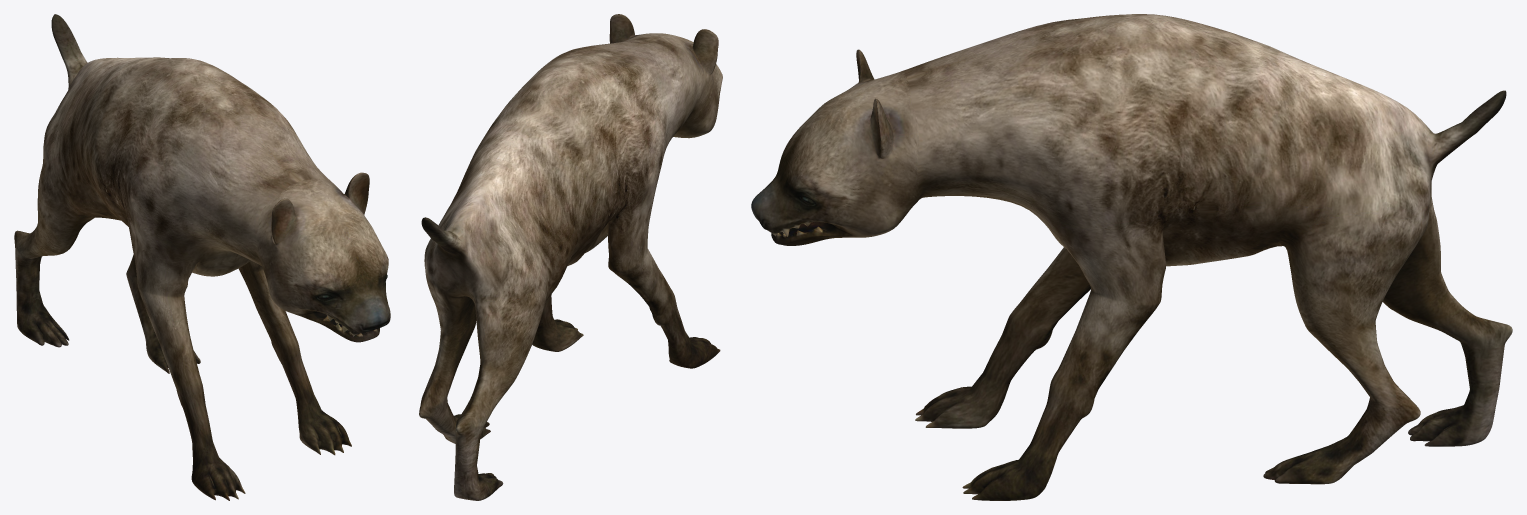
The model's file is hyena.fbx.
3 views of the same model, side by side, from view 1: azimuth 30°, elevation 25°; view 2: azimuth 150°, elevation 25°; view 3: azimuth 270°, elevation 25° (orthographic). The views are drawn at different scales.
Visible parts, largest first — view 1: hyena; view 2: hyena; view 3: hyena.
Boxes of the visible parts, x1,y1,x2,y2 form: hyena: [14, 14, 390, 500]; hyena: [419, 14, 722, 500]; hyena: [751, 14, 1512, 500].
Bounding box in the file's own units: 44.97 × 92.63 × 147.
Materials: 1 (1 with a texture image).
